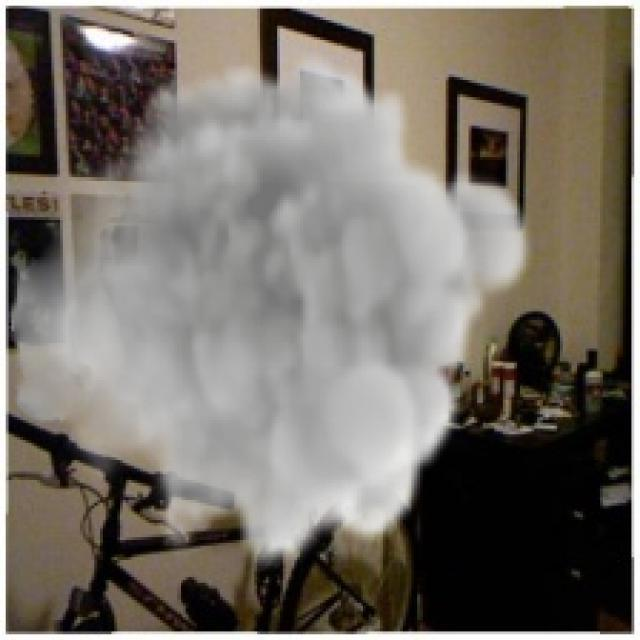Smoke: (5, 51, 538, 572)
